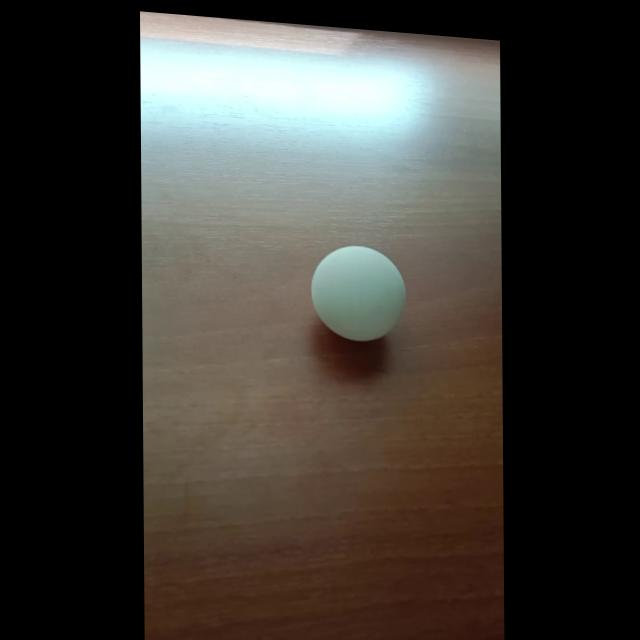white ball: (310, 240, 406, 346)
